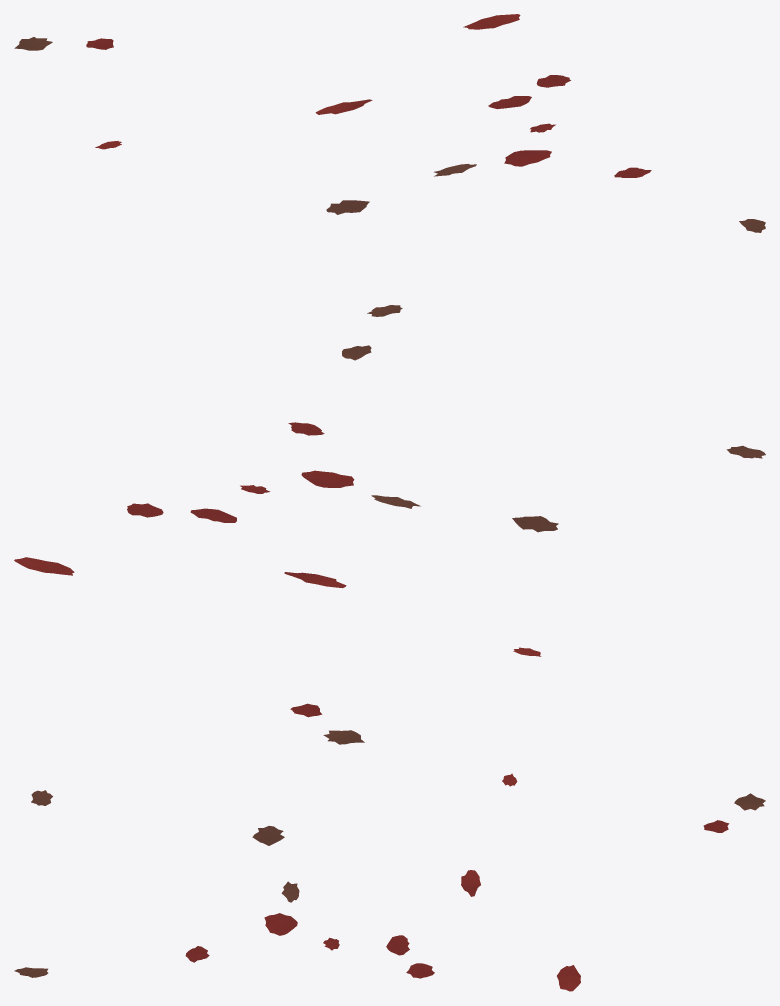
File: blood_droplet_trail.glb
3 views of the same model, one above another, from view 1: azimuth 30°, elevation 25°; view 2: azimuth 150°, elevation 25°; view 3: azimuth 270°, elevation 25° (orthographic). The views are drawn at different scales.
Parts seen in each view (by area): view 1: blood_droplet_trail; view 2: blood_droplet_trail; view 3: blood_droplet_trail.
Boxes of the visible parts, left/top/right/bottom form: blood_droplet_trail: left=14, top=14, right=765, bottom=316; blood_droplet_trail: left=14, top=345, right=765, bottom=744; blood_droplet_trail: left=14, top=773, right=765, bottom=991.
Bounding box in the file's own units: 0.8448 × 0.000299 × 1.23.
2 materials, 2 textured.
